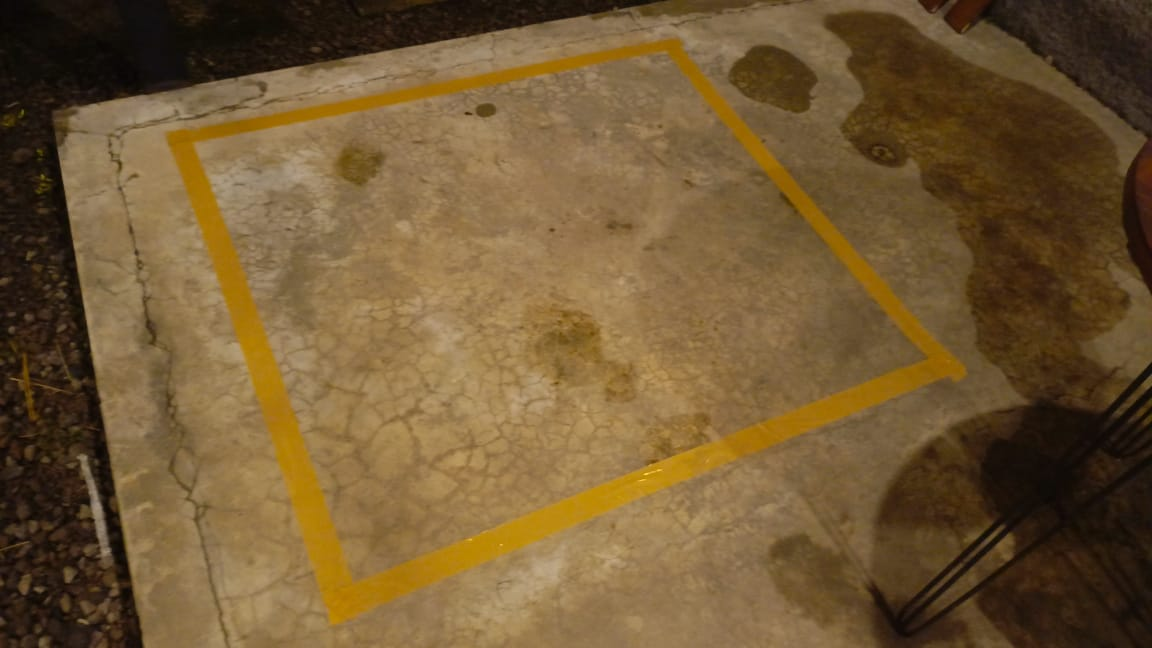floor marking: (167, 39, 965, 622)
